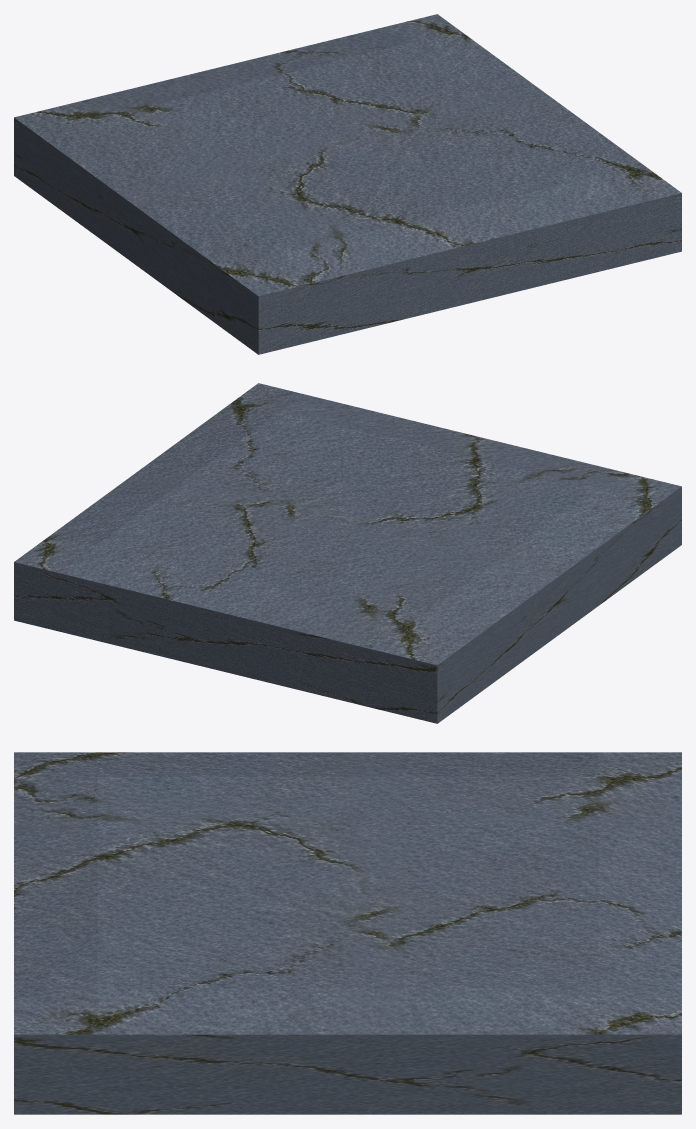
The model's file is floor_tile_C.glb.
The picture shows the model from 3 angles, top to bottom: view 1: azimuth 30°, elevation 25°; view 2: azimuth 150°, elevation 25°; view 3: azimuth 270°, elevation 25°; orthographic projection. The views are drawn at different scales.
Parts seen in each view (by area): view 1: floor_tile_C; view 2: floor_tile_C; view 3: floor_tile_C.
Part boxes in pixels (x1,y1,x2,y2): floor_tile_C: (14,14,681,354); floor_tile_C: (14,383,681,723); floor_tile_C: (14,752,681,1114).
Bounding box in the file's own units: 1 × 0.15 × 1.
1 material, 1 textured.
